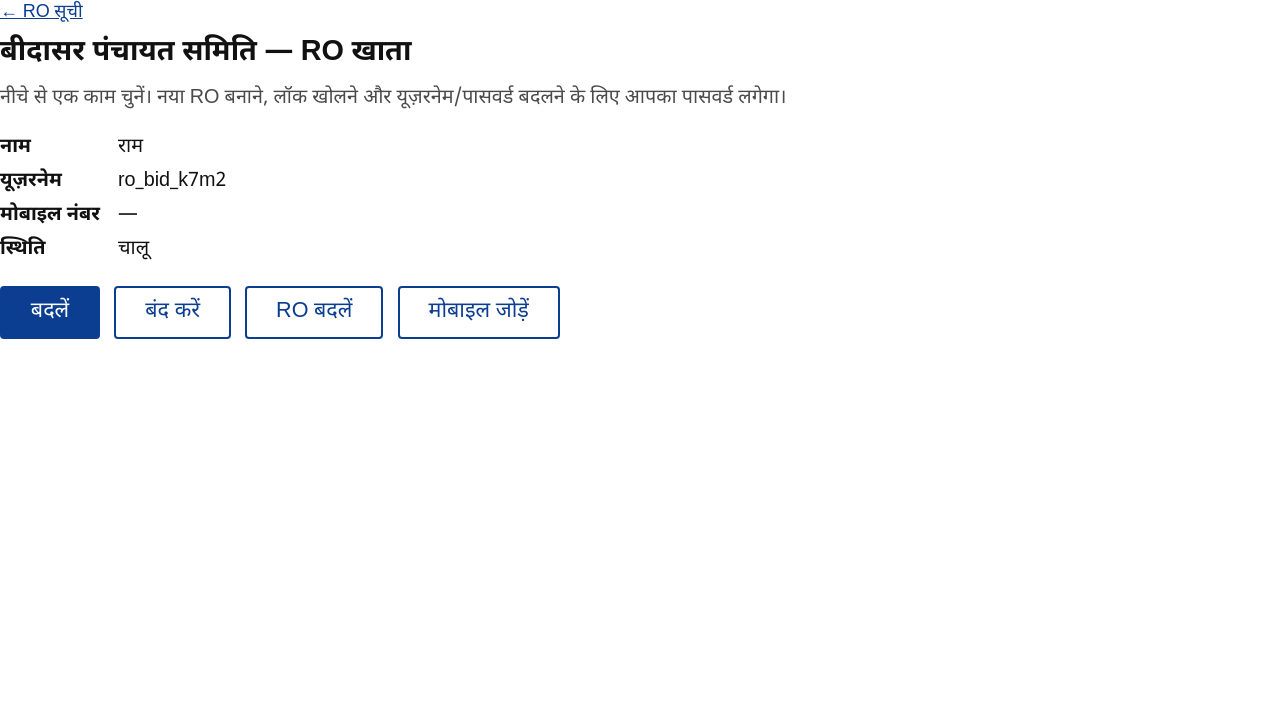
Scenario: बदलें: one form for username and password › typing a password shows the live Hindi rules; "सेव करें" waits for a change and valid rules
Click the button "बदलें".
click(50, 313)  # box [0,286,100,339]
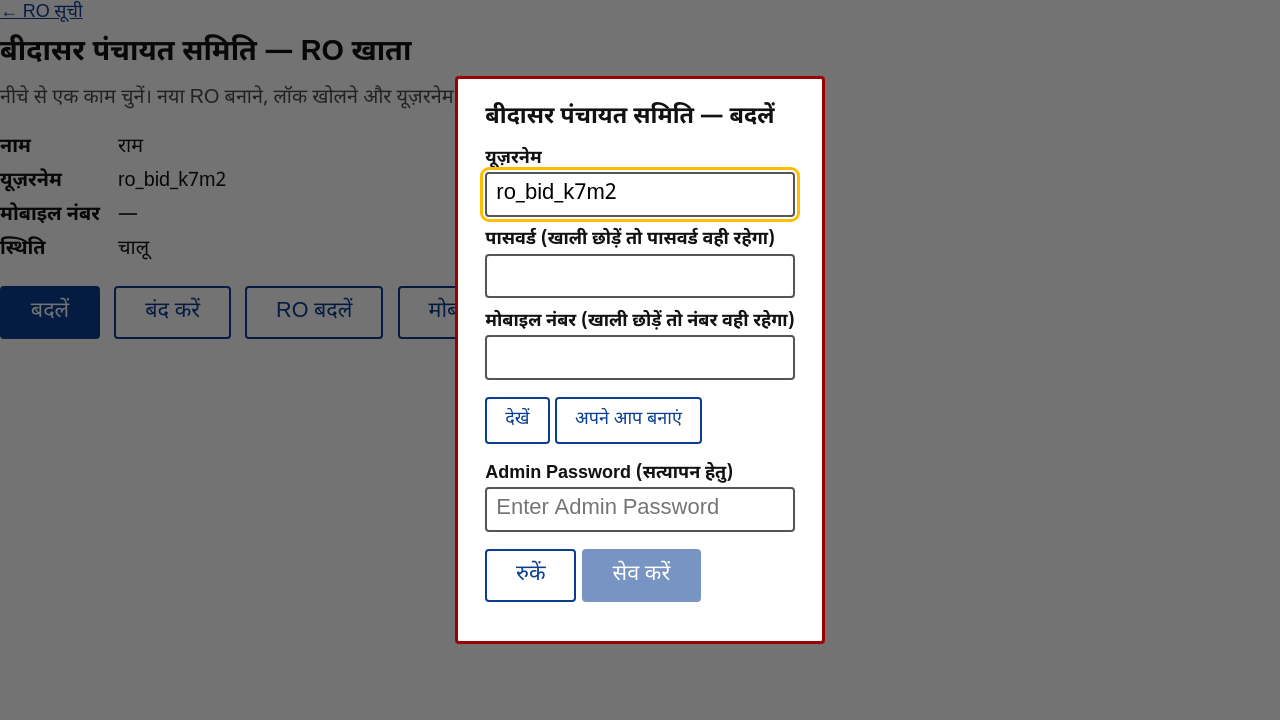
Expected: the field labelled "यूज़रनेम" holds "ro_bid_k7m2", [485,172,795,217]
Expected: the button "सेव करें" is disabled, [582,549,701,602]
Type "Churu2026!" into the field labelled "पासवर्ड (खाली छोड़ें तो पासवर्ड वही रहेगा)".
click(640, 276); type("Churu2026!")  # box [485,254,795,298]
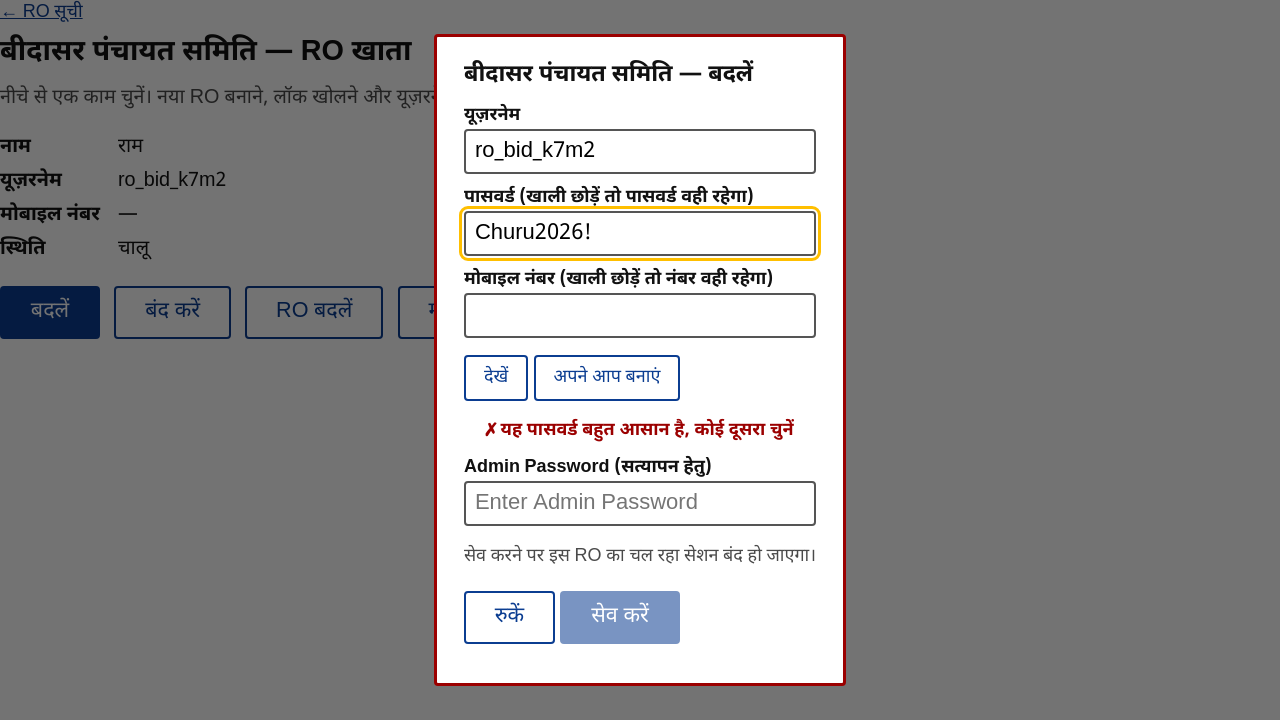
Expected: the button "सेव करें" is disabled, [560,591,680,644]
Expected: the list with test id "pw-hints" shows "यह पासवर्ड बहुत आसान है", [500,419,794,442]
Clear the field labelled "पासवर्ड (खाली छोड़ें तो पासवर्ड वही रहेगा)" at {"x": 640, "y": 234}, box [464,211,816,256]
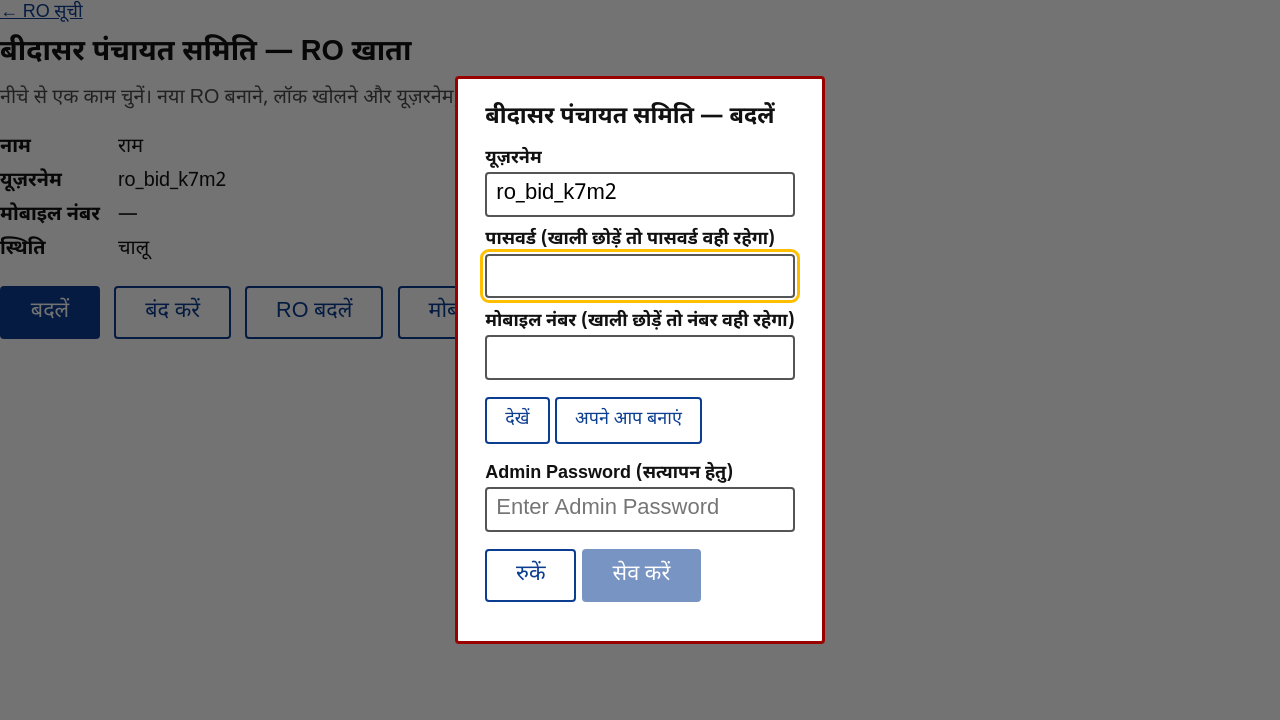
Type "Kesar7Tila9mor" into the field labelled "पासवर्ड (खाली छोड़ें तो पासवर्ड वही रहेगा)".
click(640, 276); type("Kesar7Tila9mor")  # box [485,254,795,298]
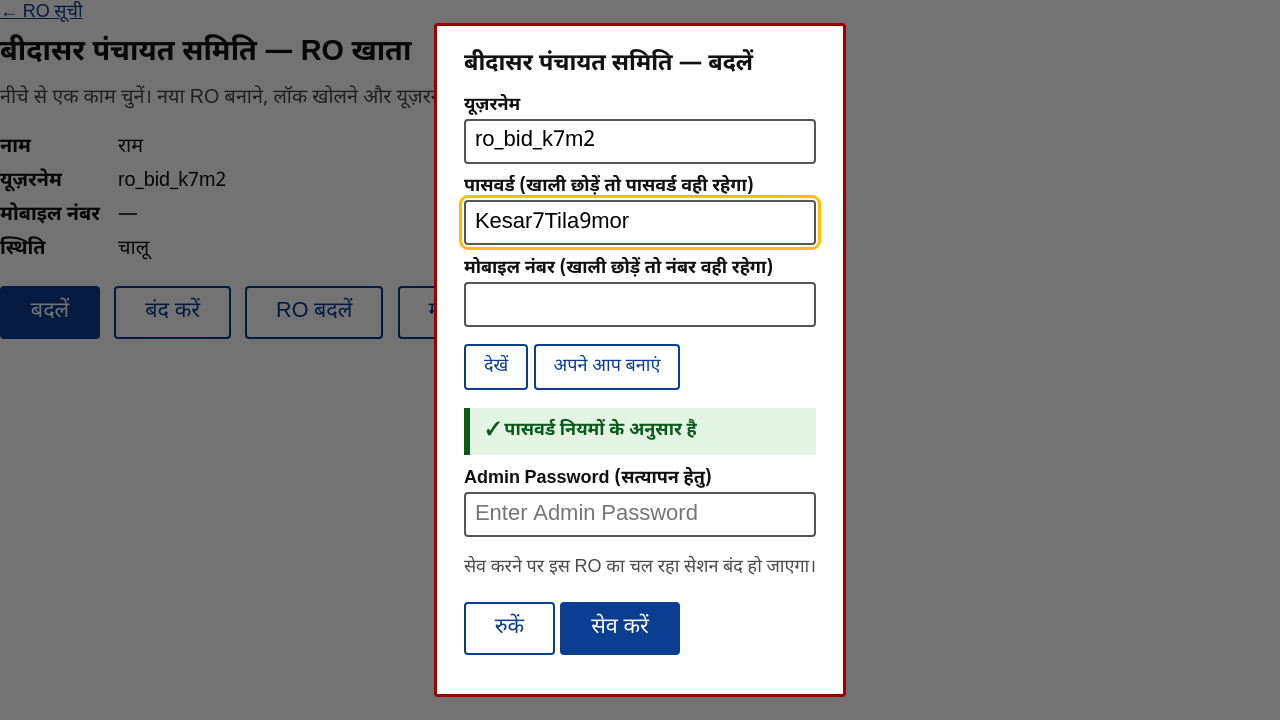
Expected: the text "✓ पासवर्ड नियमों के अनुसार है" is shown, [464,408,816,455]
Expected: the button "सेव करें" is enabled, [560,602,680,655]
